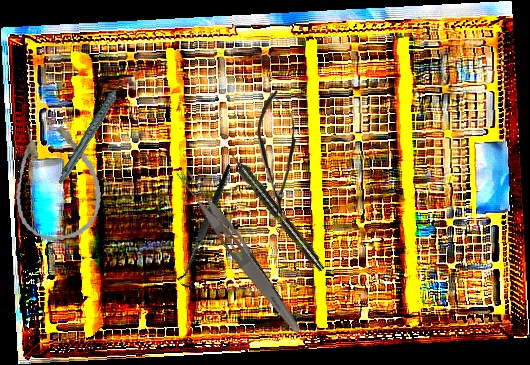Cannula: (5, 115, 107, 245)
Dressing Forceps: (171, 163, 310, 337)
Handpiece: (223, 146, 328, 274), (38, 75, 149, 185)
Hook Surgical: (141, 163, 275, 293)
Micro Scissor: (255, 89, 300, 218)
